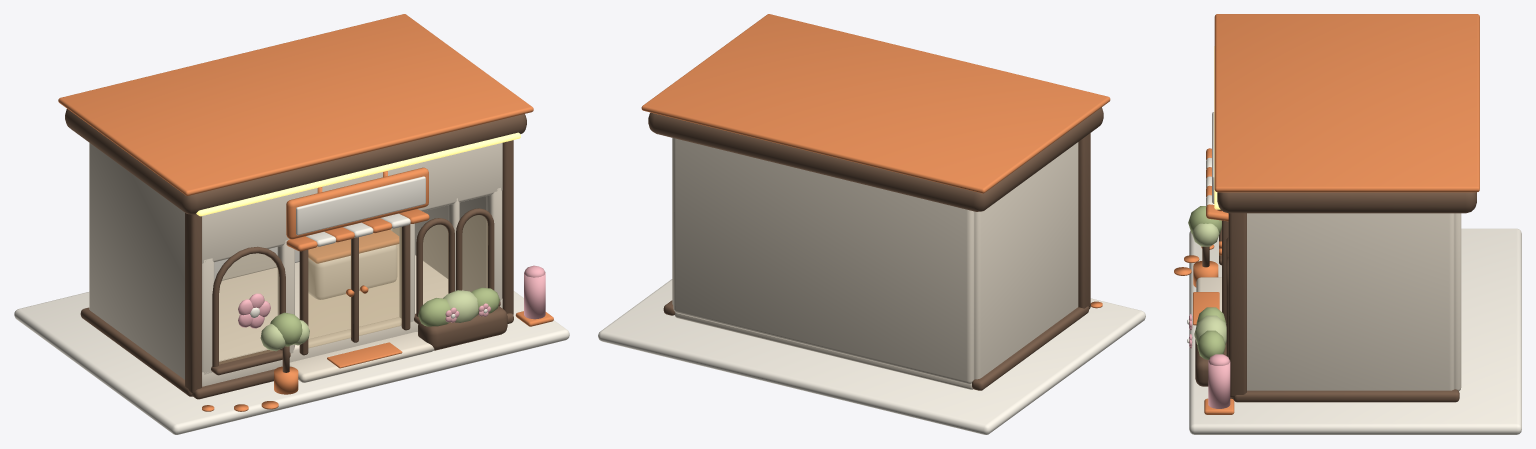
Rendered from virtual-world-storefront.glb.
3 renders of one model, left to right at view 1: azimuth 30°, elevation 25°; view 2: azimuth 150°, elevation 25°; view 3: azimuth 270°, elevation 25°, orthographic. The views are drawn at different scales.
Visible parts, largest first — view 1: GEO_RoofCap, GEO_PlazaBase, GEO_LeftWall, GEO_FrontTopBand, GEO_RoofCanopy, GEO_StoreFloor, GEO_DisplayWindowLeft, GEO_DoorGlassLeft, GEO_DoorGlassRight, GEO_SignFace, GEO_RightWall, GEO_CheckoutCounter (+30 smaller); view 2: GEO_BackWall, GEO_RoofCap, GEO_PlazaBase, GEO_LeftWall, GEO_RoofCanopy, GEO_CornerPostLeft, GEO_StoreFloor, GEO_BaseTrimLeft; view 3: GEO_RoofCap, GEO_RightWall, GEO_PlazaBase, GEO_RoofCanopy, GEO_CornerPostRight, GEO_BaseTrimRight, GEO_BackWall, PROP_BollardBody, PROP_Shrub_3, GEO_WelcomeMat, PROP_Shrub_2, GEO_DoorFrameRight (+5 smaller).
Part boxes in pixels (x1,y1,x2,y2): GEO_RoofCap: (58, 14, 533, 195); GEO_PlazaBase: (14, 291, 569, 434); GEO_LeftWall: (89, 143, 184, 379); GEO_FrontTopBand: (202, 143, 502, 263); GEO_RoofCanopy: (65, 109, 526, 214); GEO_StoreFloor: (219, 244, 462, 360); GEO_DisplayWindowLeft: (219, 253, 279, 364); GEO_DoorGlassLeft: (308, 239, 351, 347); GEO_DoorGlassRight: (359, 227, 401, 335); GEO_SignFace: (296, 176, 425, 235); GEO_RightWall: (392, 196, 486, 291); GEO_CheckoutCounter: (308, 245, 397, 299); GEO_BackWall: (673, 138, 974, 383); GEO_RoofCap: (641, 14, 1110, 193); GEO_PlazaBase: (598, 279, 1145, 434); GEO_LeftWall: (974, 142, 1078, 379); GEO_RoofCanopy: (648, 107, 1103, 211); GEO_CornerPostLeft: (1078, 133, 1090, 308); GEO_StoreFloor: (675, 312, 973, 389); GEO_BaseTrimLeft: (972, 306, 1088, 390); GEO_RoofCap: (1214, 14, 1479, 192); GEO_RightWall: (1247, 213, 1454, 390); GEO_PlazaBase: (1189, 228, 1521, 434); GEO_RoofCanopy: (1217, 192, 1476, 213); GEO_CornerPostRight: (1228, 213, 1246, 397); GEO_BaseTrimRight: (1233, 389, 1459, 402); GEO_BackWall: (1454, 213, 1461, 390); PROP_BollardBody: (1208, 360, 1230, 408); PROP_Shrub_3: (1197, 330, 1225, 359); GEO_WelcomeMat: (1193, 292, 1219, 325); PROP_Shrub_2: (1194, 315, 1226, 344); GEO_DoorFrameRight: (1222, 220, 1228, 324).
Bounding box in the file's own units: 10.2 × 5.66 × 7.53.
